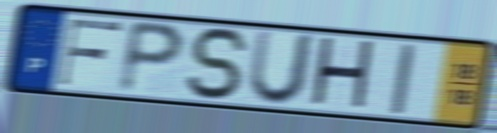F: (55, 17, 126, 89)
H: (306, 34, 378, 115)
I: (387, 42, 418, 117)
P: (114, 17, 189, 97)
S: (185, 25, 254, 104)
U: (244, 27, 320, 109)
